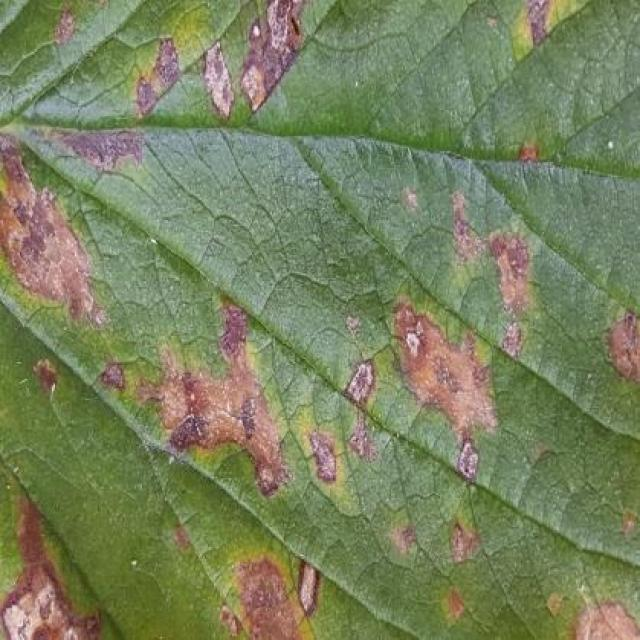Angular Leafspot: (0, 0, 638, 638)
